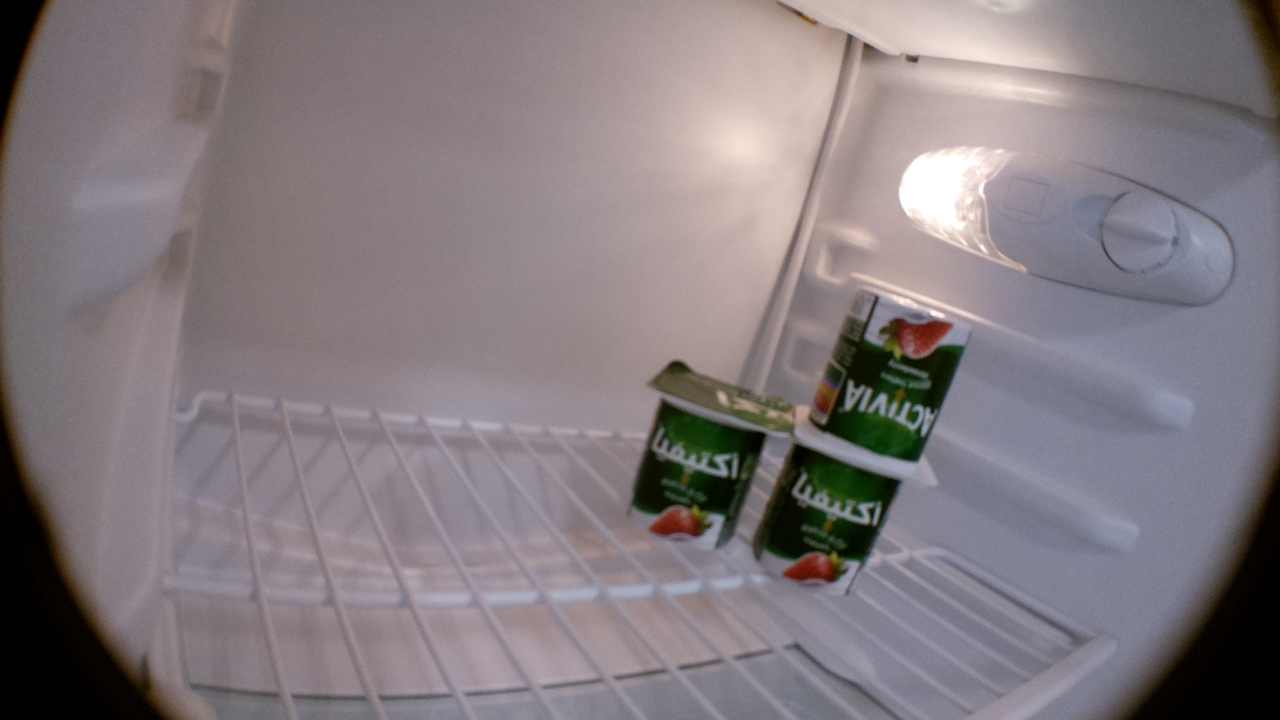yoghurt: (790, 267, 977, 483), (621, 357, 792, 554), (753, 442, 937, 602)
